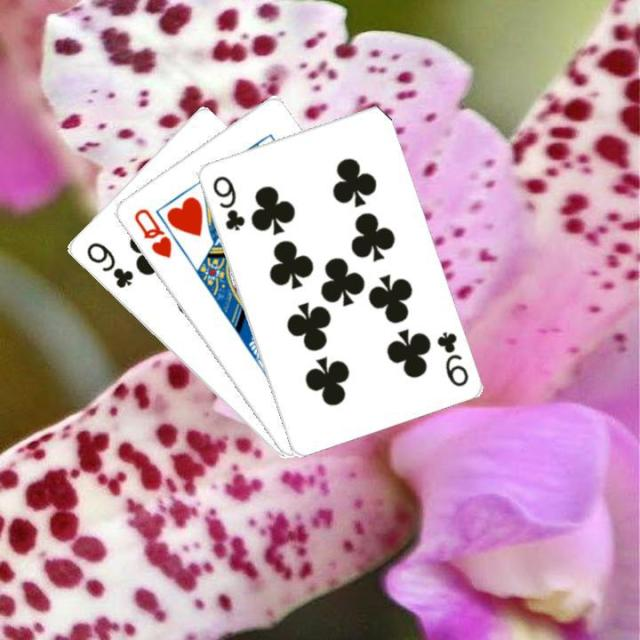9C: (82, 238, 135, 291), (208, 171, 247, 233), (432, 327, 470, 389)
QH: (129, 204, 173, 260)
